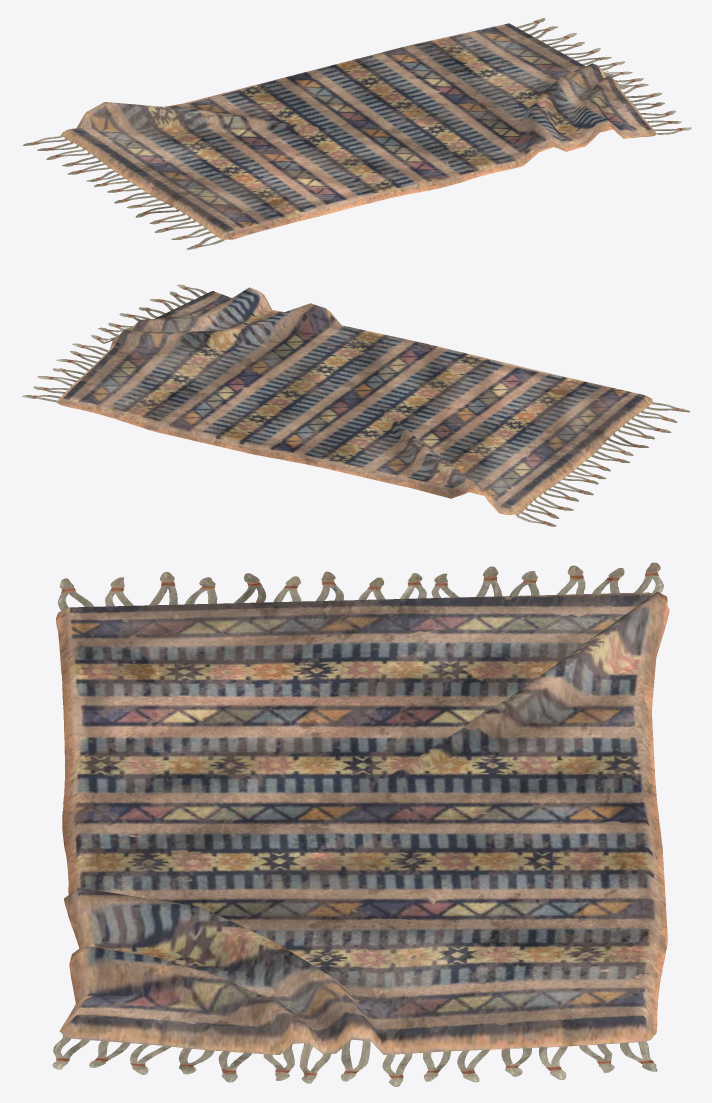
3 views of the same model, one above another, from view 1: azimuth 30°, elevation 25°; view 2: azimuth 150°, elevation 25°; view 3: azimuth 270°, elevation 25° (orthographic). The views are drawn at different scales.
Visible parts, largest first — view 1: SM_Moon_Garou_Decoration_Carpet_01_LOD0; view 2: SM_Moon_Garou_Decoration_Carpet_01_LOD0; view 3: SM_Moon_Garou_Decoration_Carpet_01_LOD0.
Boxes of the visible parts, x1=… form: SM_Moon_Garou_Decoration_Carpet_01_LOD0: x1=23, y1=18, x2=691, y2=249; SM_Moon_Garou_Decoration_Carpet_01_LOD0: x1=22, y1=284, x2=689, y2=526; SM_Moon_Garou_Decoration_Carpet_01_LOD0: x1=52, y1=562, x2=669, y2=1086.
Bounding box in the file's own units: 5.08 × 0.207 × 2.64.
1 material, 1 textured.
